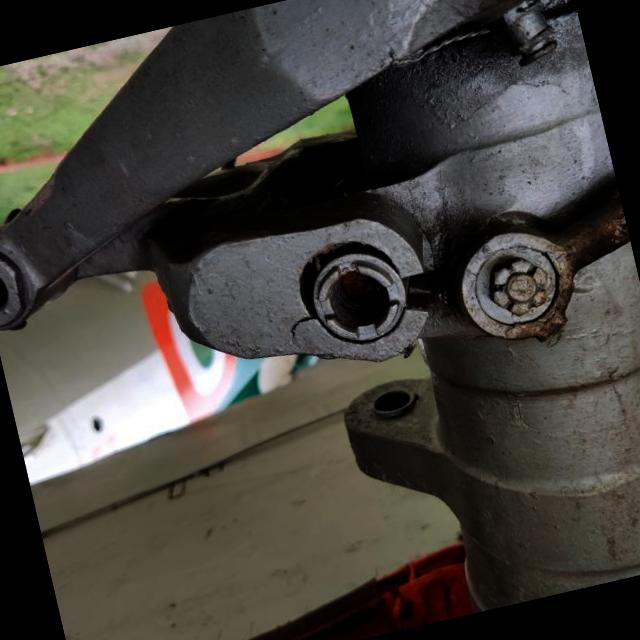crack: (284, 310, 322, 346)
